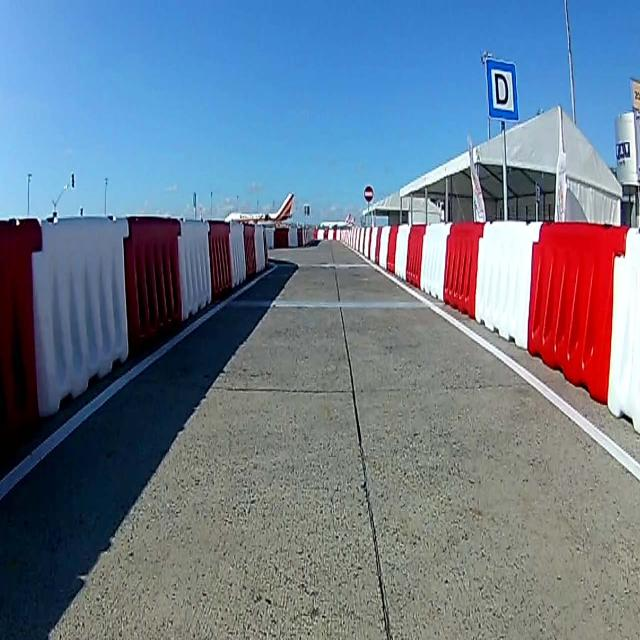durak: (486, 58, 518, 122)
girisyok: (363, 181, 373, 202)
